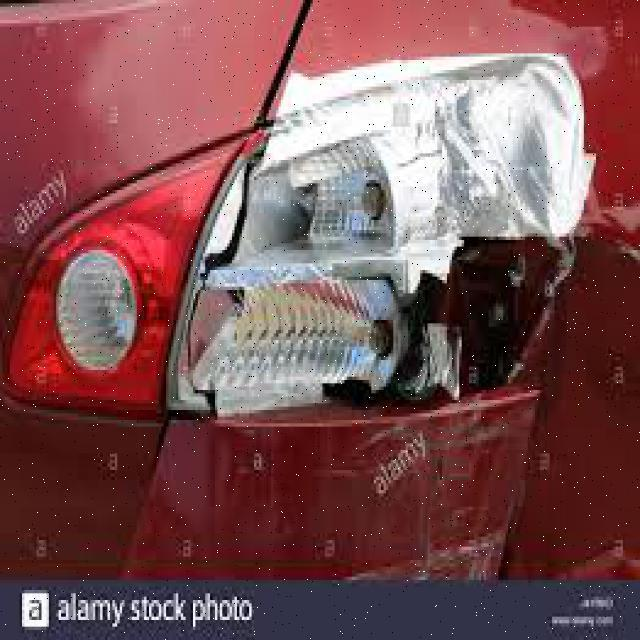Headlight-Damage: (178, 46, 598, 444)
